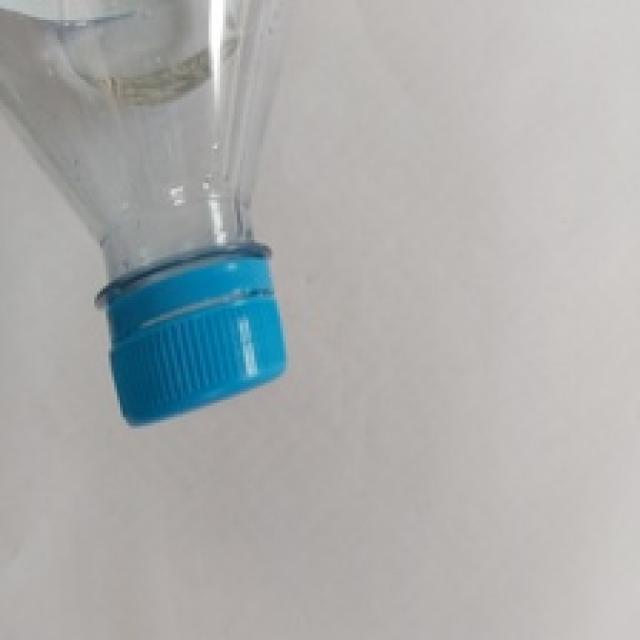Plastic: (0, 0, 309, 424)
